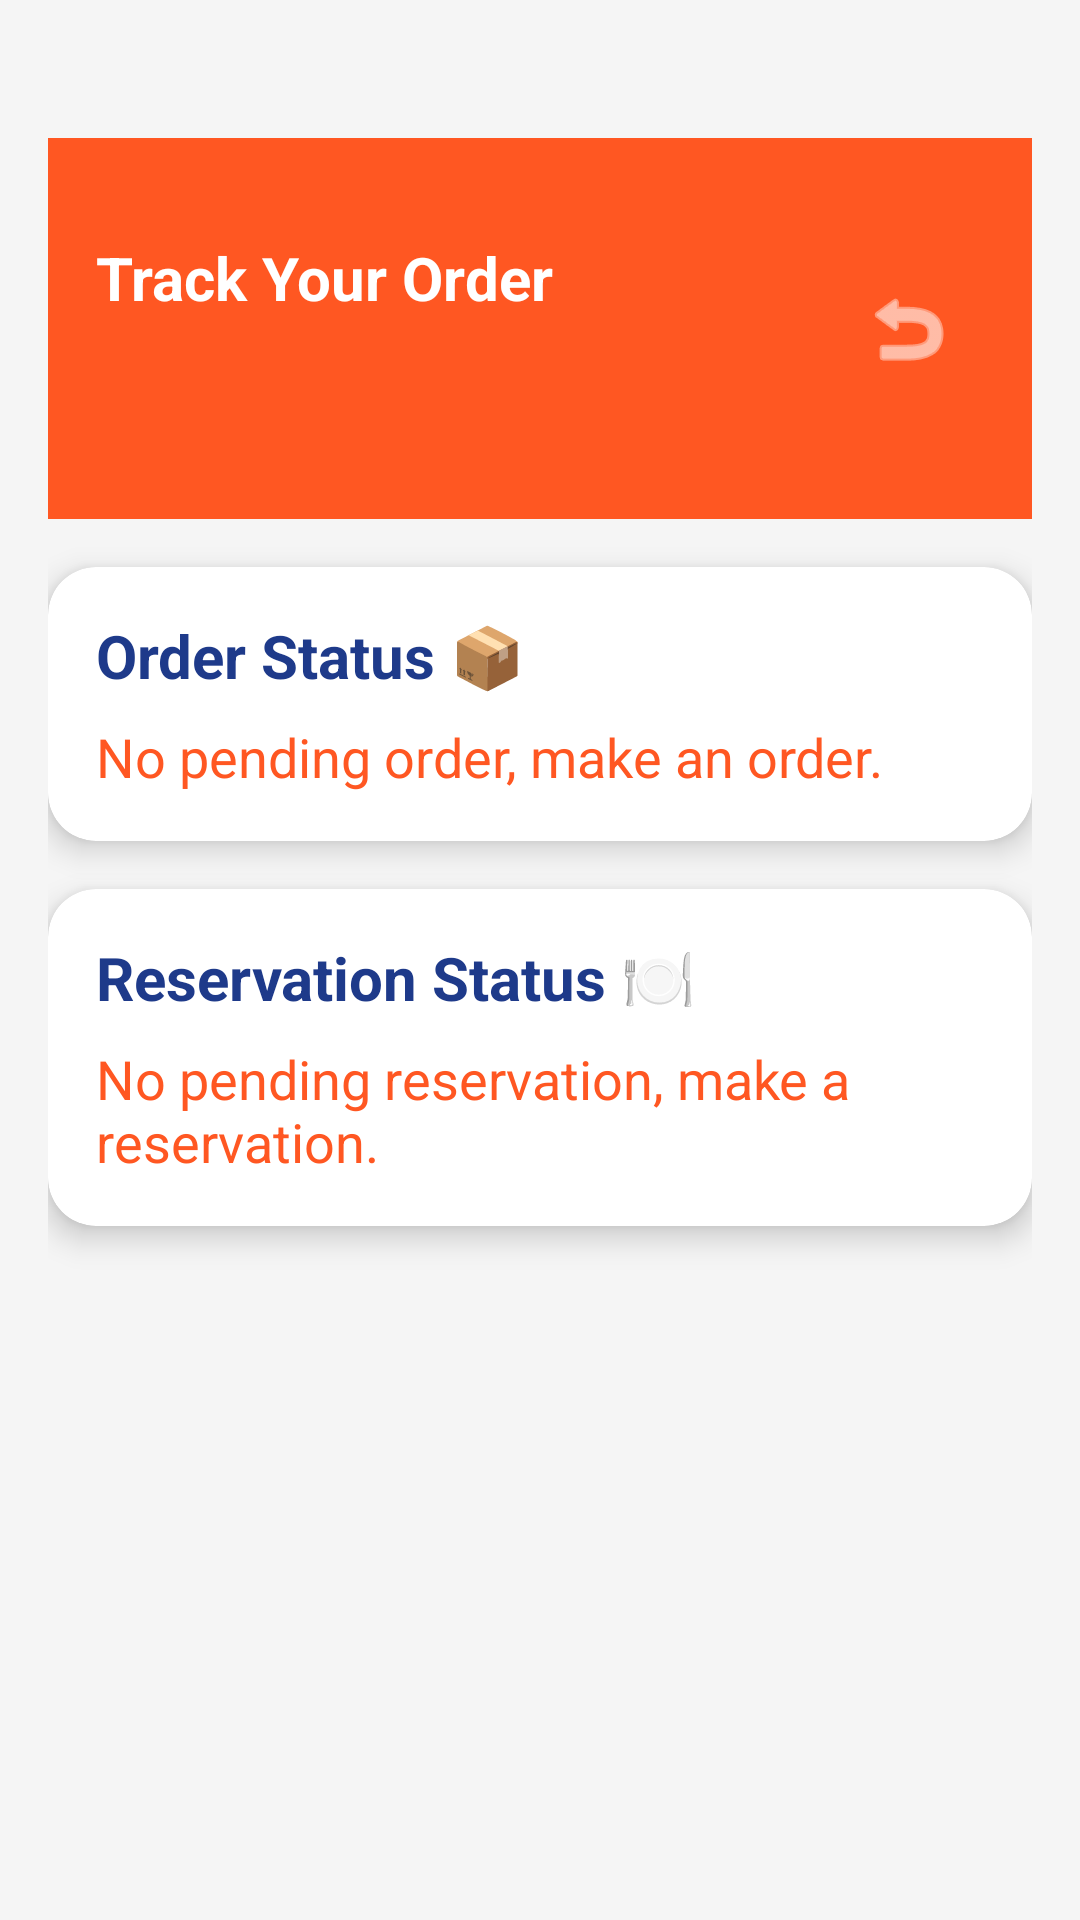

Named icons in this screenshot (1080w x 1920h) and their bounding boxes, [x1=x1, y1=y1, x2=x2, y2=y2]:
revert: [x1=875, y1=298, x2=944, y2=361]
